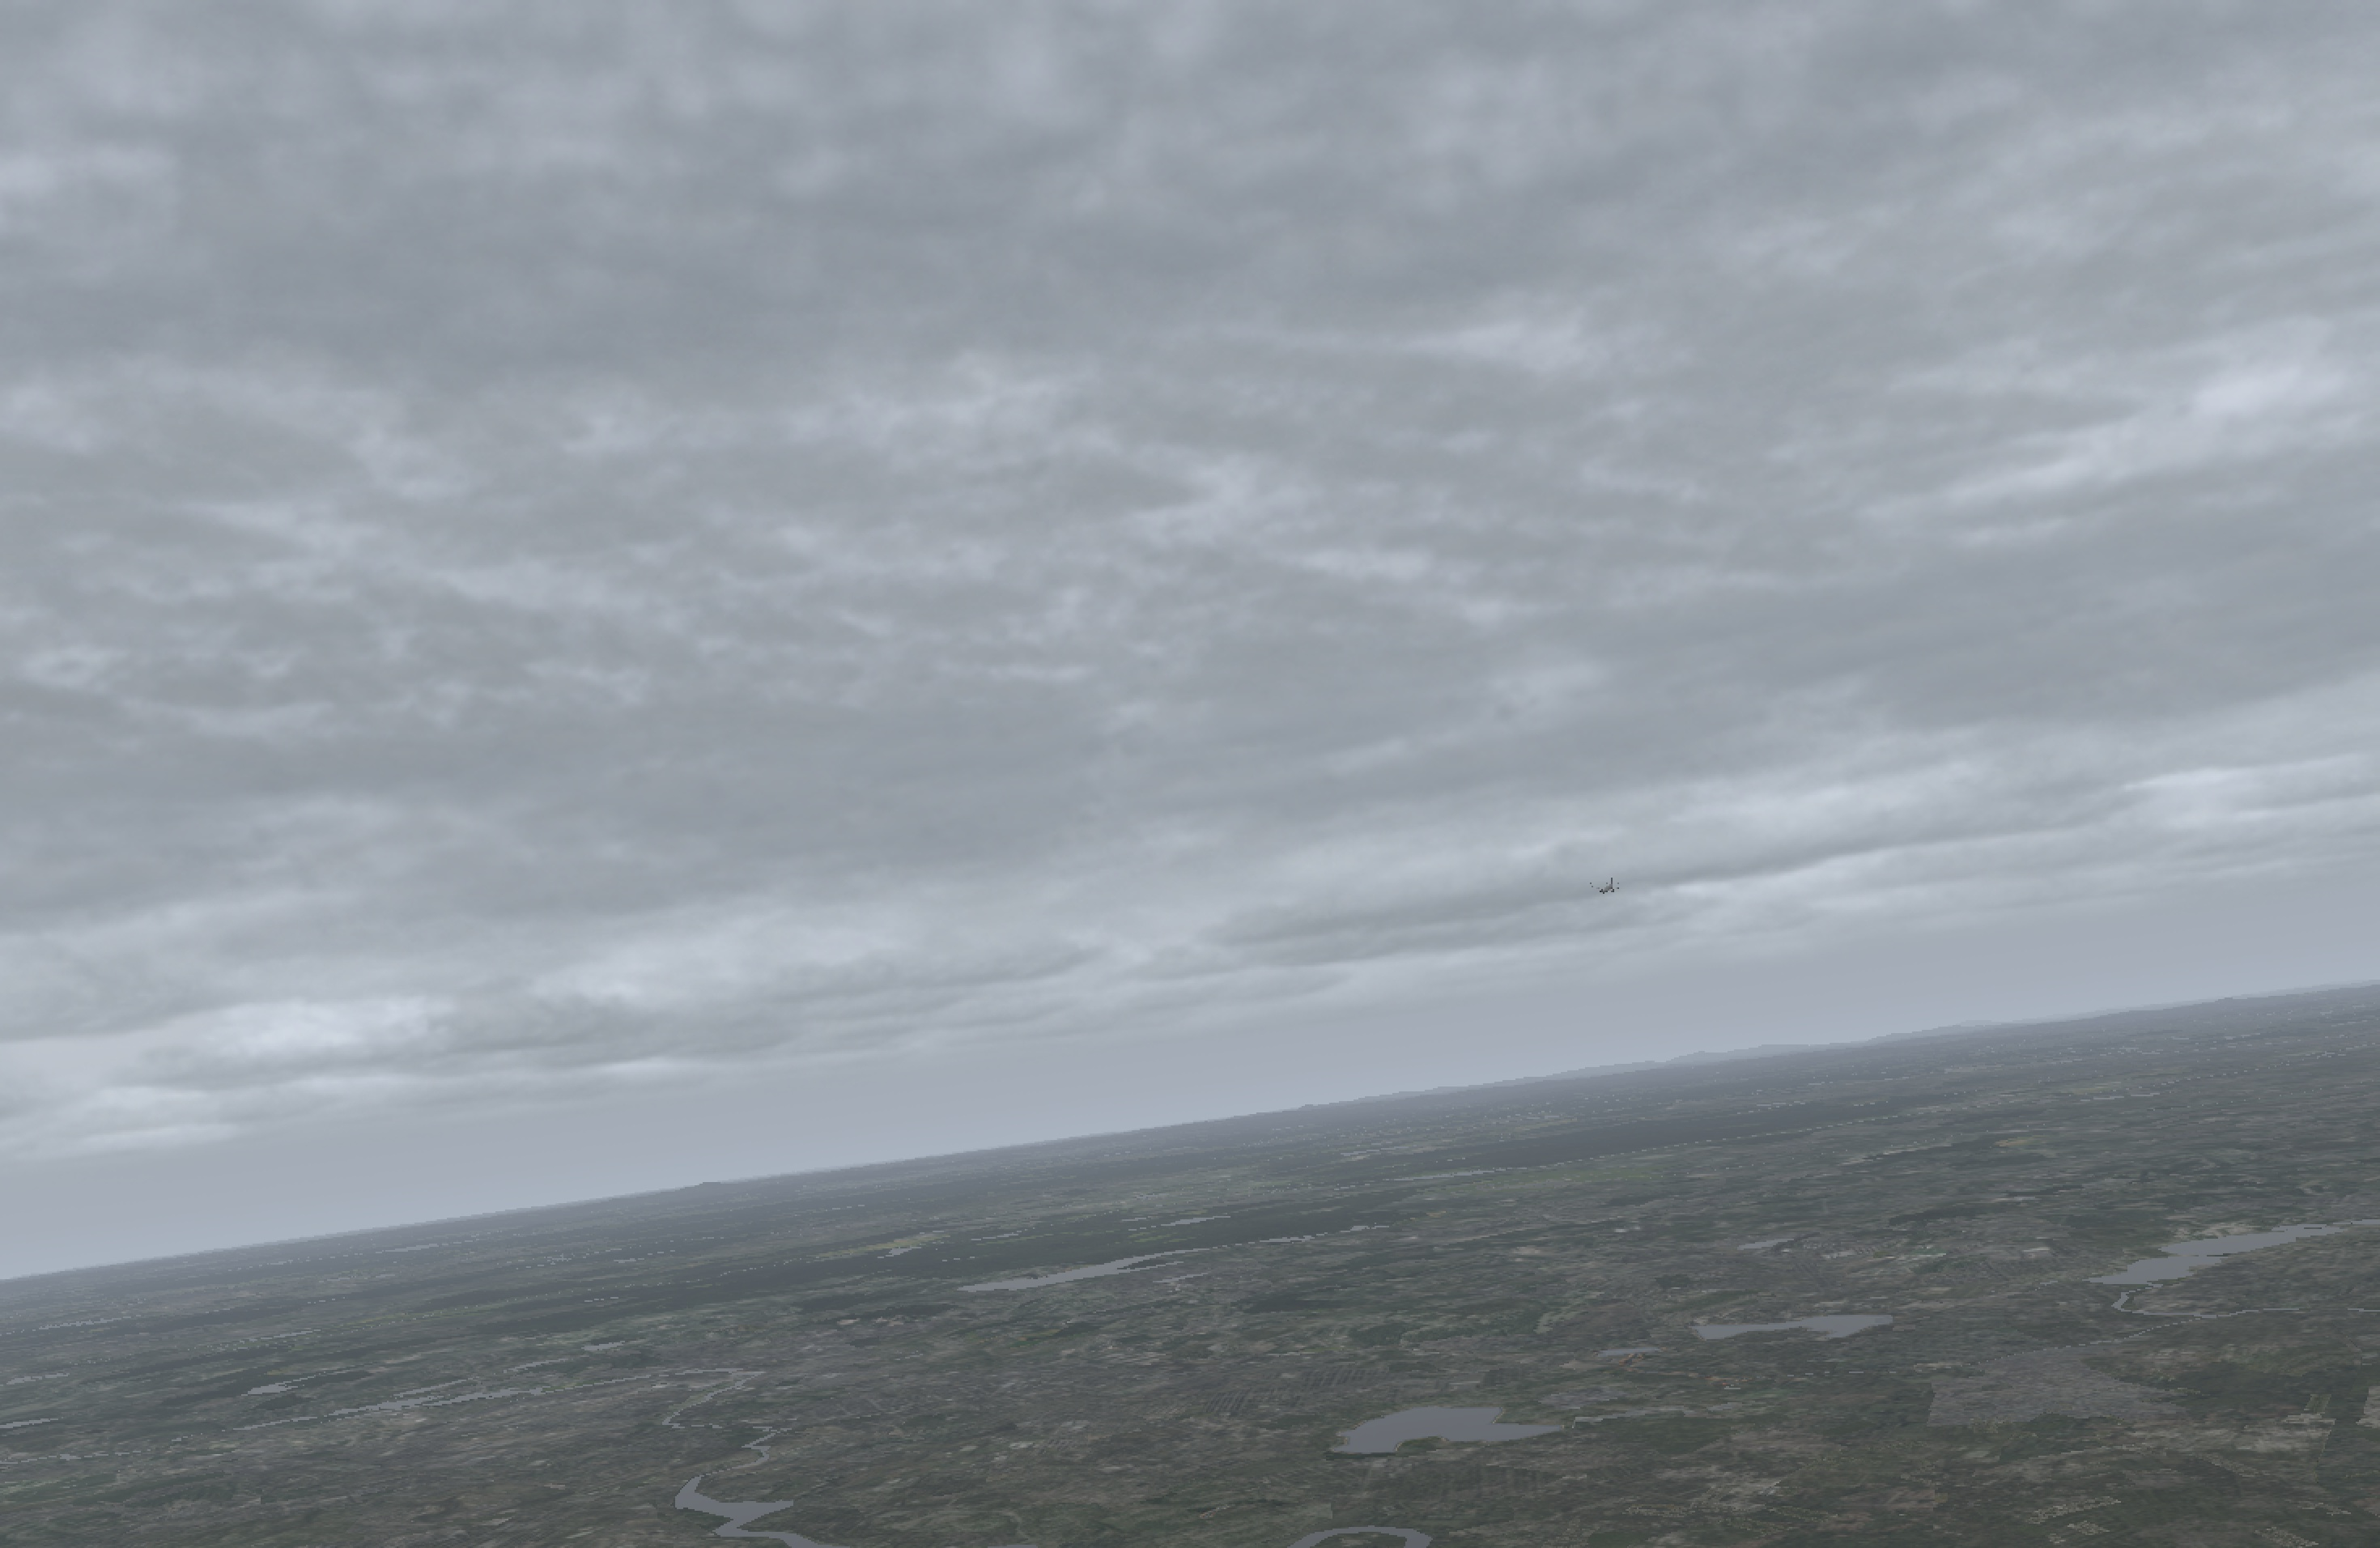aircraft: (1587, 882, 1629, 897)
